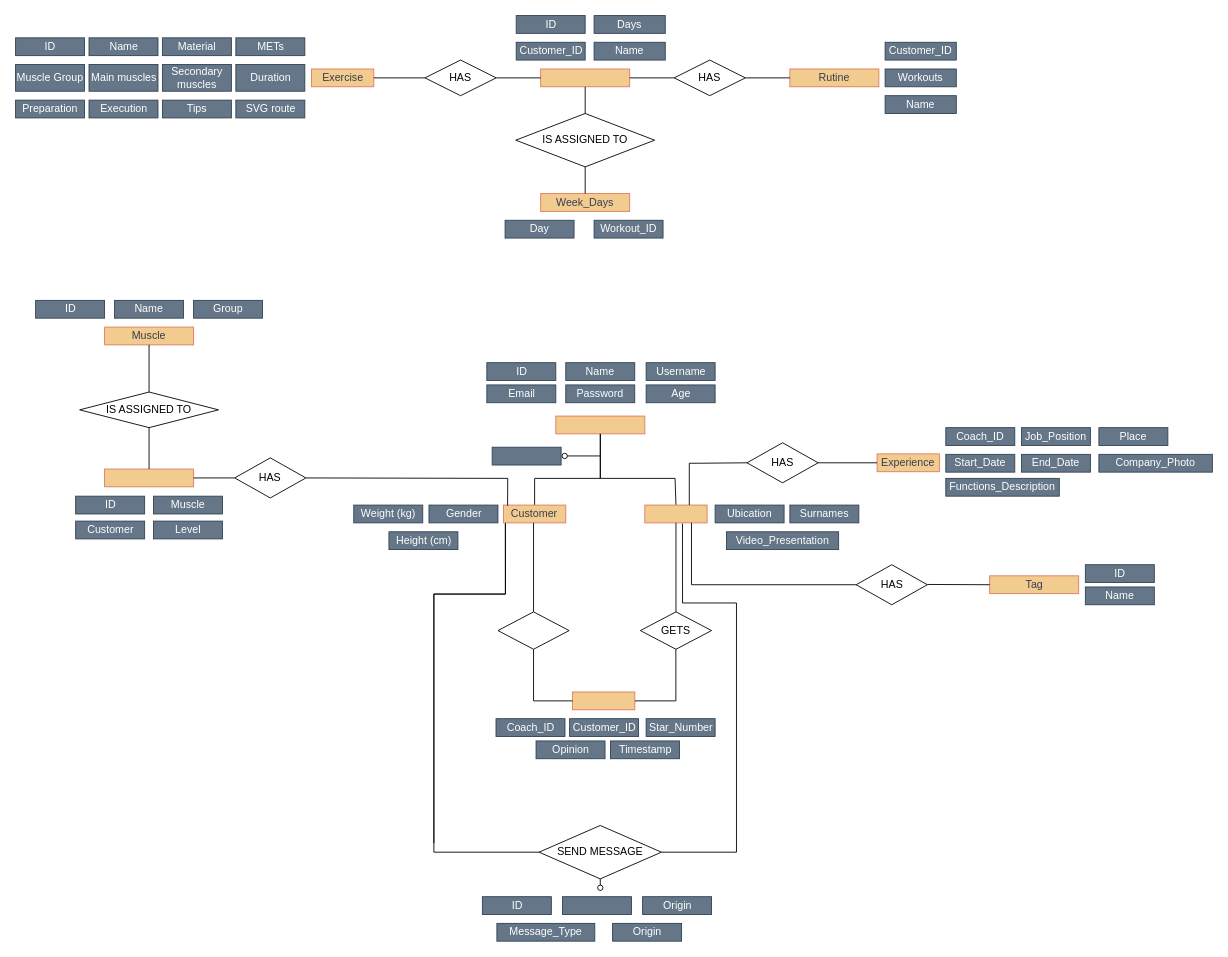
Image size: 1228x957. Some labels were removed from this diagram. Here are the shapes that lost their labels. From the top down, the centre of each, then its label:
point 585,77: Workout
point 600,424: User
point 526,455: Rol
point 149,477: Fatigue
point 675,513: Coach
point 533,630: PLACES
point 603,700: Review
point 596,905: Content
